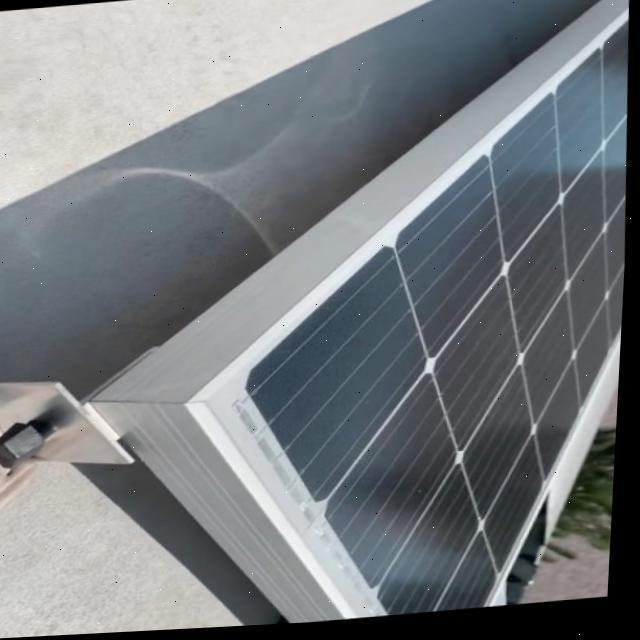Normal Solar Panel: (169, 0, 639, 632)
